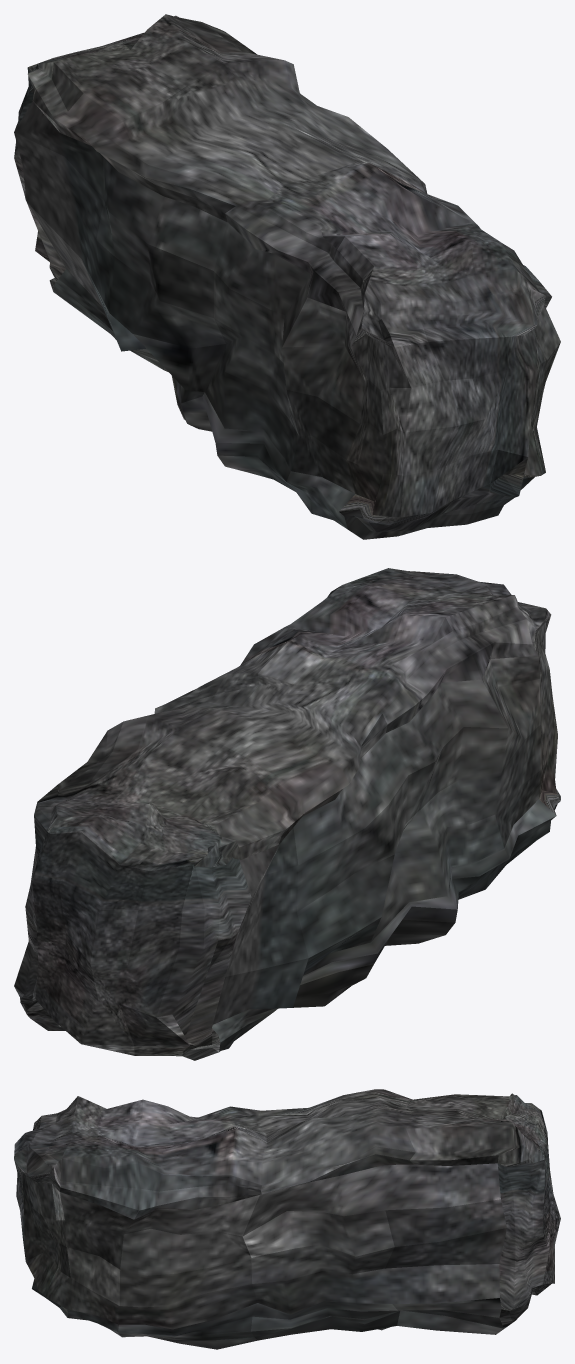
File: rock1.fbx
3 renders of one model, top to bottom at view 1: azimuth 30°, elevation 25°; view 2: azimuth 150°, elevation 25°; view 3: azimuth 270°, elevation 25°, orthographic. The views are drawn at different scales.
Parts seen in each view (by area): view 1: pCube1; view 2: pCube1; view 3: pCube1.
Boxes of the visible parts, box(x1,y1,x2,y2) form: pCube1: box(14, 14, 560, 539); pCube1: box(14, 568, 560, 1060); pCube1: box(14, 1089, 560, 1349).
Size of the model in its own units: 23.71 by 27.49 by 62.01.
